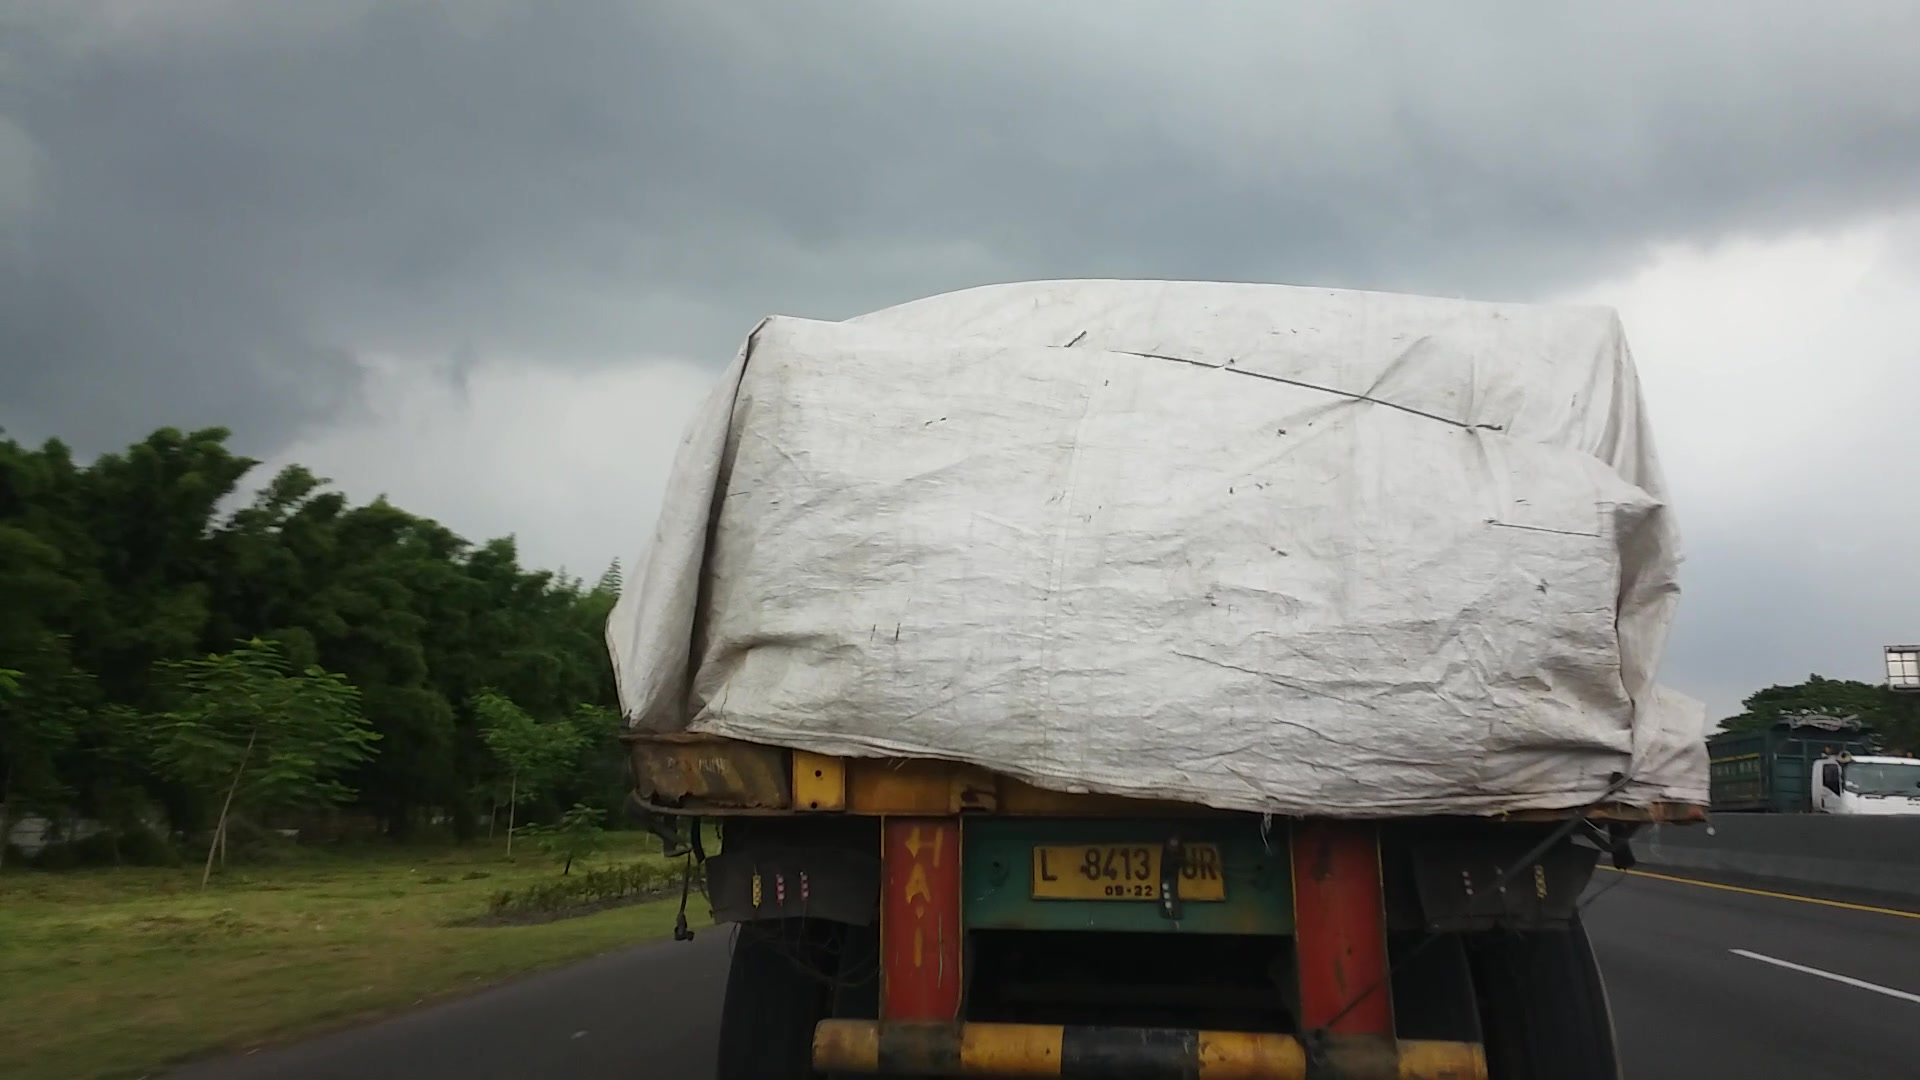plate_positive: (1030, 840, 1225, 899)
